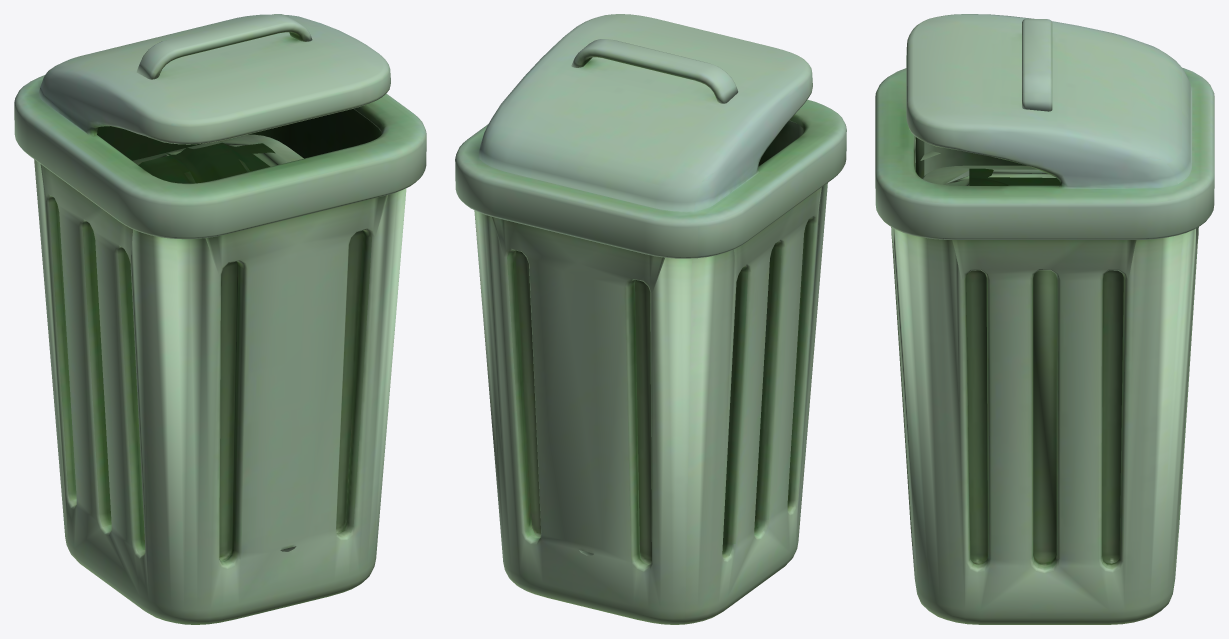
The model's file is Urban__park_garbage_can_24473073_v3.cluster.glb.
The picture shows the model from 3 angles, left to right: view 1: azimuth 30°, elevation 25°; view 2: azimuth 150°, elevation 25°; view 3: azimuth 270°, elevation 25°; orthographic projection. The views are drawn at different scales.
Parts seen in each view (by area): view 1: material; view 2: material; view 3: material.
Part boxes in pixels (x1=…): material: x1=14, y1=14, x2=426, y2=624; material: x1=455, y1=14, x2=846, y2=624; material: x1=875, y1=14, x2=1214, y2=624.
Size of the model in its own units: 1.1 by 1.9 by 1.11.
1 material, 1 textured.
